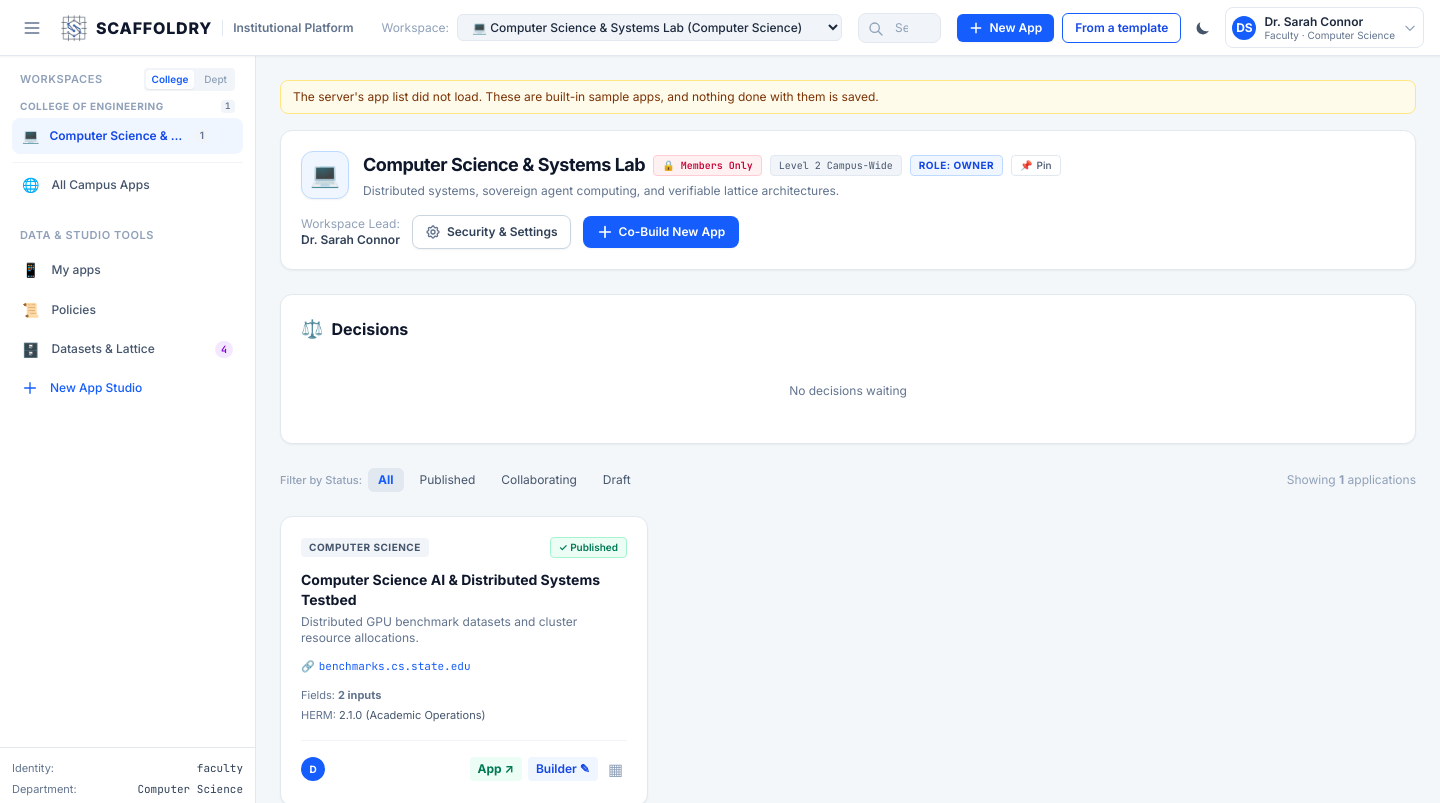
Test: UI guards › the workspace settings fields have names a screen reader can read
Click the button "Security & Settings" at (491, 232), box left=412, top=215, right=570, bottom=249
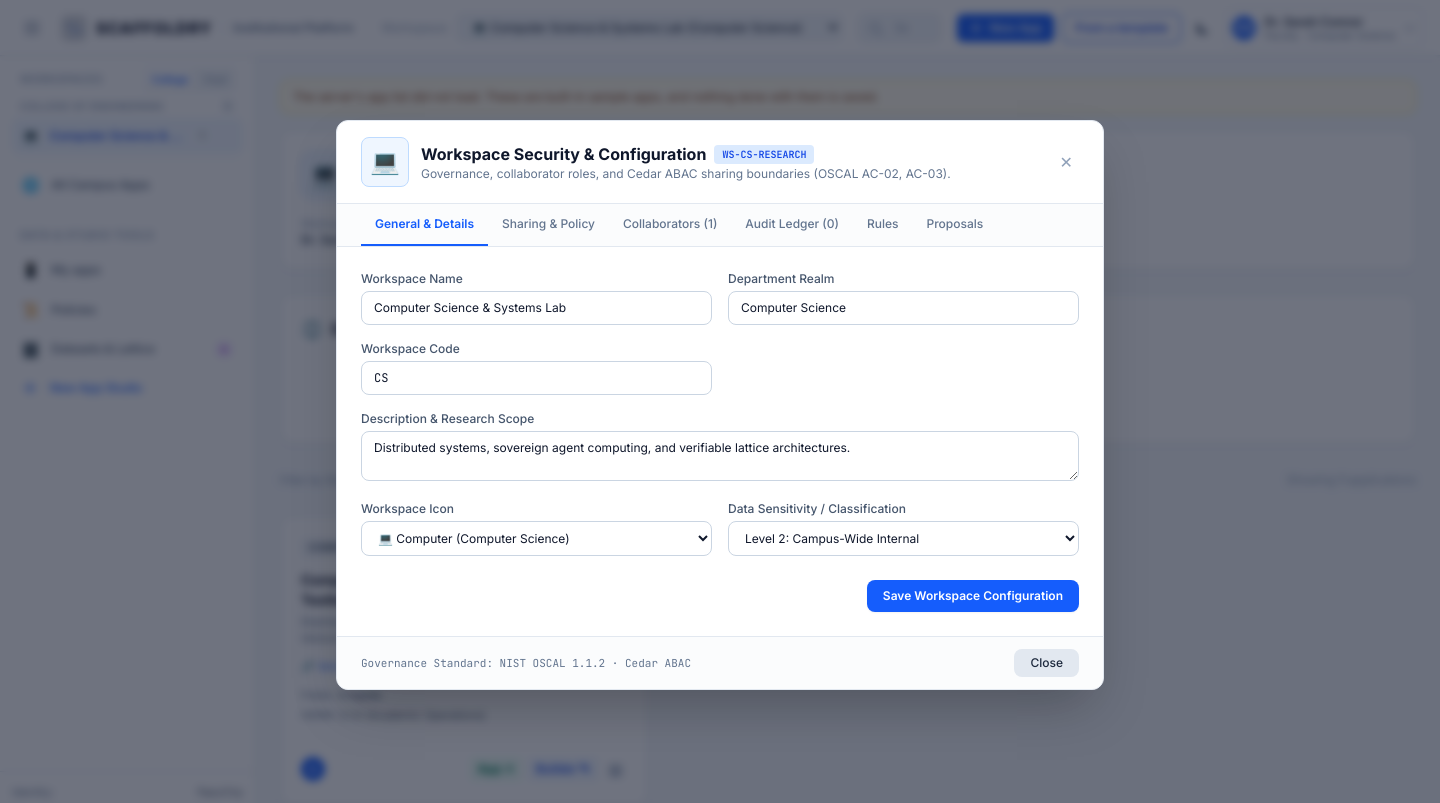
Expected: the field named "Workspace name" is shown, left=361, top=291, right=712, bottom=325
Expected: the field named "Department" is shown, left=728, top=291, right=1079, bottom=325
Expected: the field named "Workspace code" is shown, left=361, top=361, right=712, bottom=395
